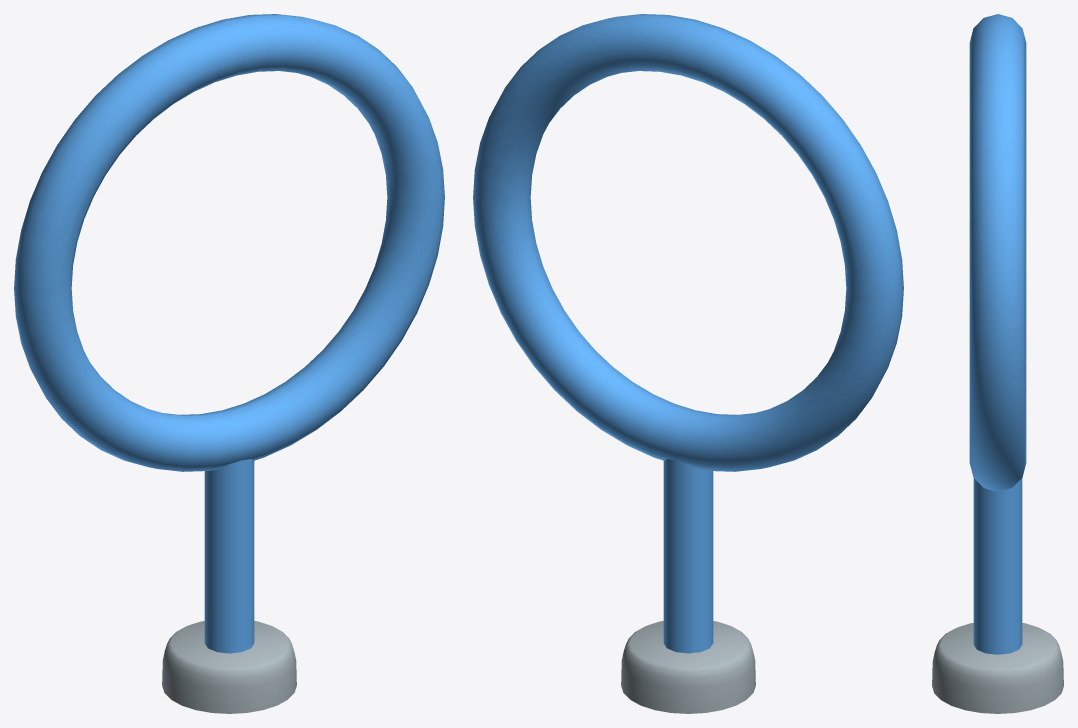
The model's file is ring_teamBlue-col.glb.
3 views of the same model, side by side, from view 1: azimuth 30°, elevation 25°; view 2: azimuth 150°, elevation 25°; view 3: azimuth 270°, elevation 25° (orthographic). The views are drawn at different scales.
Visible parts, largest first — view 1: ring_teamBlue-col; view 2: ring_teamBlue-col; view 3: ring_teamBlue-col.
Part boxes in pixels (x1=…): ring_teamBlue-col: x1=14, y1=14, x2=444, y2=713; ring_teamBlue-col: x1=473, y1=14, x2=903, y2=713; ring_teamBlue-col: x1=932, y1=14, x2=1063, y2=713.
Bounding box in the file's own units: 2 × 3 × 0.5524.
